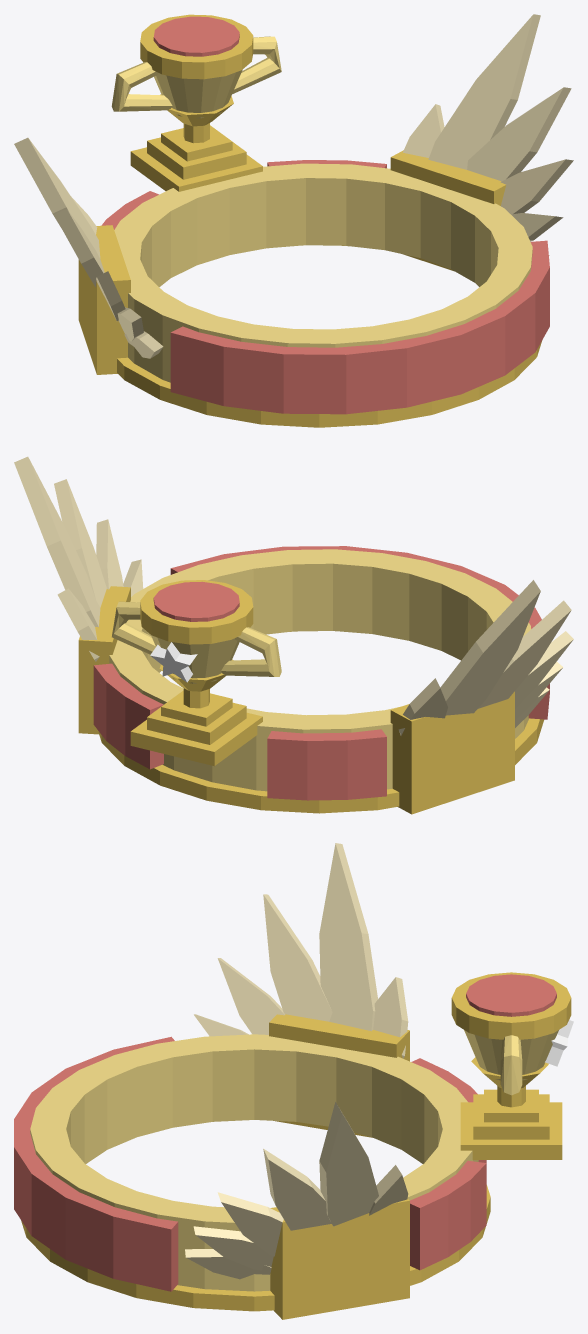
File: ChampionBand.fbx
3 views of the same model, one above another, from view 1: azimuth 30°, elevation 25°; view 2: azimuth 150°, elevation 25°; view 3: azimuth 270°, elevation 25° (orthographic). The views are drawn at different scales.
Parts seen in each view (by area): view 1: ChampionBand.Band, ChampionBand.RedAccents, ChampionBand.GoldTrim, ChampionBand.Wings, ChampionBand.Cup; view 2: ChampionBand.Band, ChampionBand.GoldTrim, ChampionBand.Wings, ChampionBand.RedAccents, ChampionBand.Cup, ChampionBand.Star; view 3: ChampionBand.Band, ChampionBand.GoldTrim, ChampionBand.Wings, ChampionBand.RedAccents, ChampionBand.Cup.
Part boxes in pixels (left/top/right/bottom): ChampionBand.Band: left=114, top=163, right=532, bottom=382; ChampionBand.RedAccents: left=101, top=16, right=549, bottom=414; ChampionBand.GoldTrim: left=78, top=14, right=542, bottom=427; ChampionBand.Wings: left=14, top=14, right=573, bottom=358; ChampionBand.Cup: left=111, top=36, right=281, bottom=118; ChampionBand.Band: left=109, top=549, right=531, bottom=791; ChampionBand.GoldTrim: left=78, top=580, right=543, bottom=814; ChampionBand.Wings: left=14, top=456, right=573, bottom=735; ChampionBand.RedAccents: left=93, top=546, right=549, bottom=800; ChampionBand.Cup: left=112, top=601, right=281, bottom=683; ChampionBand.Star: left=150, top=642, right=197, bottom=682; ChampionBand.Band: left=30, top=1034, right=478, bottom=1291; ChampionBand.GoldTrim: left=21, top=972, right=571, bottom=1319; ChampionBand.Wings: left=185, top=843, right=408, bottom=1279; ChampionBand.RedAccents: left=14, top=974, right=556, bottom=1291; ChampionBand.Cup: left=464, top=1030, right=558, bottom=1095.
Size of the model in its own units: 2.13 by 0.8888 by 1.87.
